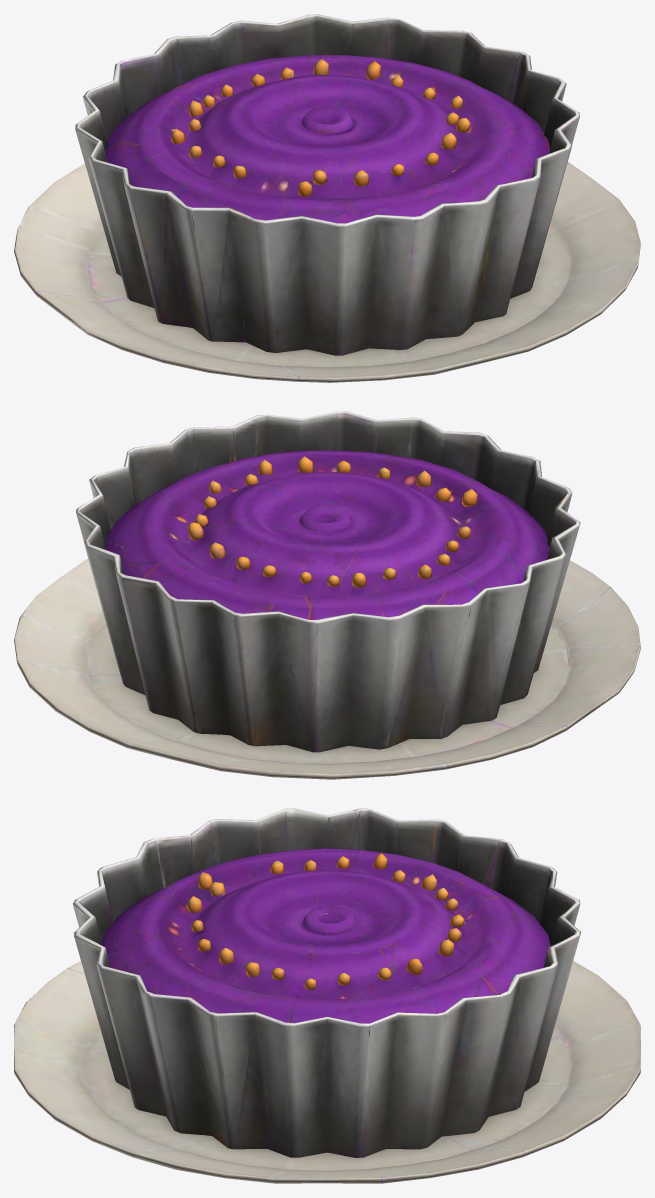
Rendered from ube-halaya.glb.
3 renders of one model, top to bottom at view 1: azimuth 30°, elevation 25°; view 2: azimuth 150°, elevation 25°; view 3: azimuth 270°, elevation 25°, orthographic.
Visible parts, largest first — view 1: geometry_0; view 2: geometry_0; view 3: geometry_0.
Part boxes in pixels (x1,y1,x2,y2): geometry_0: (14,14,640,382); geometry_0: (14,411,640,779); geometry_0: (14,808,640,1183).
Bounding box in the file's own units: 1 × 0.299 × 1.
Materials: 1 (1 with a texture image).
